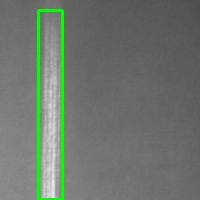scratches: (38, 10, 62, 199)
